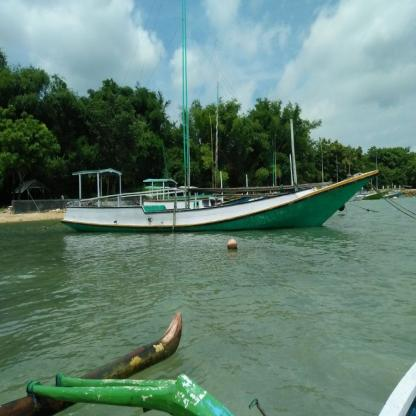fishing boat: (63, 190, 370, 233)
